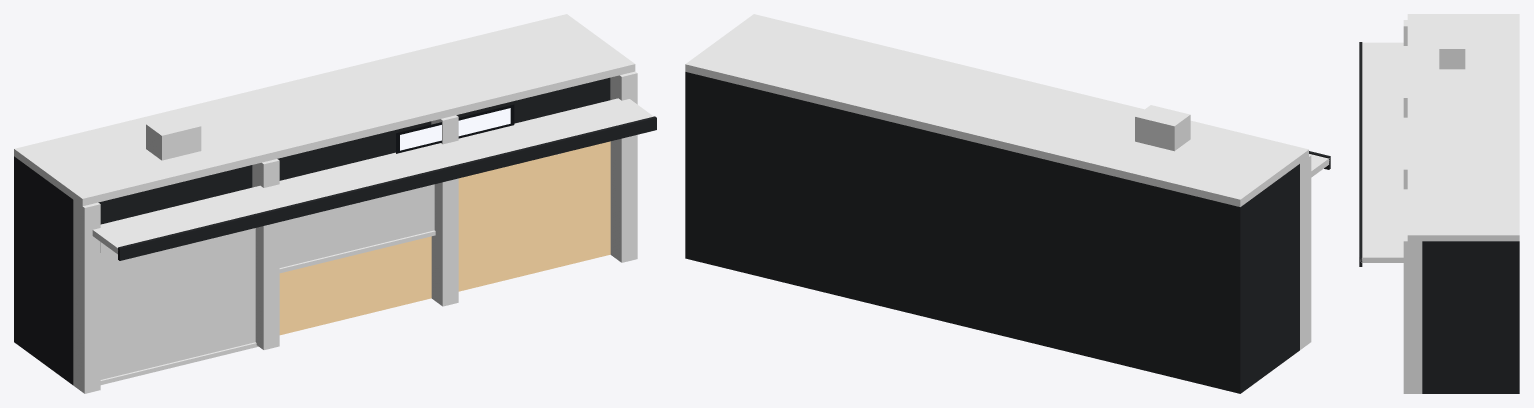
File: shop_stalls.gltf
3 renders of one model, left to right at view 1: azimuth 30°, elevation 25°; view 2: azimuth 150°, elevation 25°; view 3: azimuth 270°, elevation 25°, orthographic. The views are drawn at different scales.
Visible parts, largest first — view 1: steel, graphite, shopwall, sheet, detail_titanium, detail_hazard, sign, detail_dark; view 2: graphite, steel, detail_titanium; view 3: steel, graphite, detail_titanium.
Boxes of the visible parts, <box> form: steel: <box>14,14,653,393</box>; graphite: <box>14,77,656,384</box>; shopwall: <box>279,141,610,335</box>; sheet: <box>100,184,434,379</box>; detail_titanium: <box>146,114,201,160</box>; detail_hazard: <box>100,230,435,384</box>; sign: <box>400,108,510,150</box>; detail_dark: <box>396,104,514,153</box>; graphite: <box>685,72,1330,393</box>; steel: <box>685,14,1329,349</box>; detail_titanium: <box>1135,105,1190,151</box>; steel: <box>1360,14,1519,393</box>; graphite: <box>1359,42,1519,393</box>; detail_titanium: <box>1439,33,1465,69</box>.
Bounding box in the file's own units: 14 × 5.33 × 4.29.
